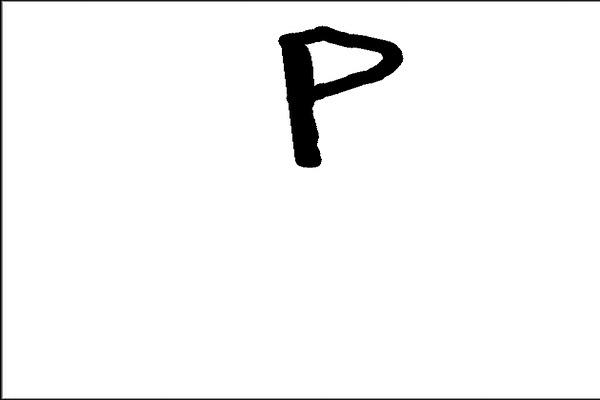P: (267, 21, 402, 171)
